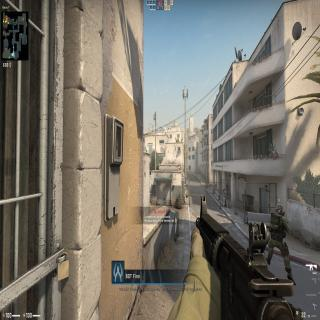CT-Head: (273, 202, 286, 216)
